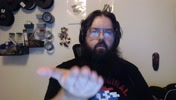hand: (33, 14, 90, 69)
